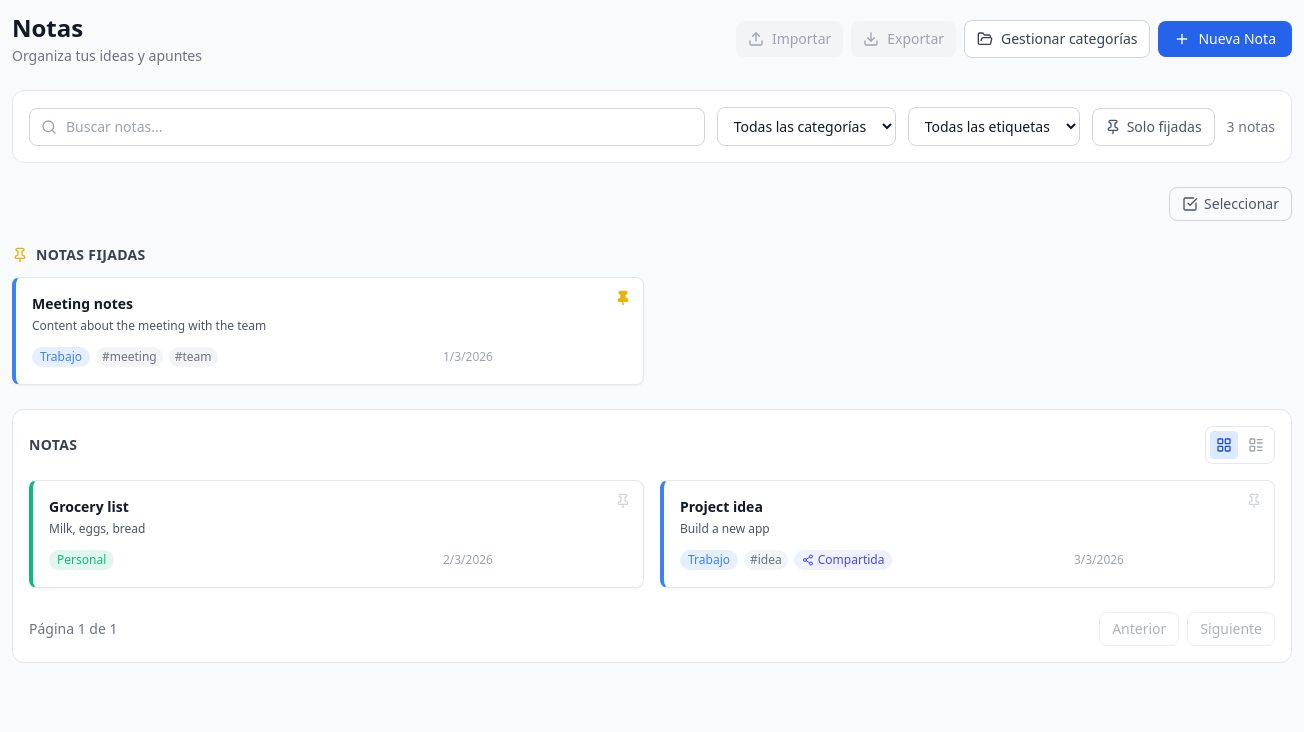
Test: NotesPage › filtra notas por categoría
Step 1. Select "Personal" in the dropdown named "Filtrar por categoría" → [806, 126], box [717, 107, 896, 146]
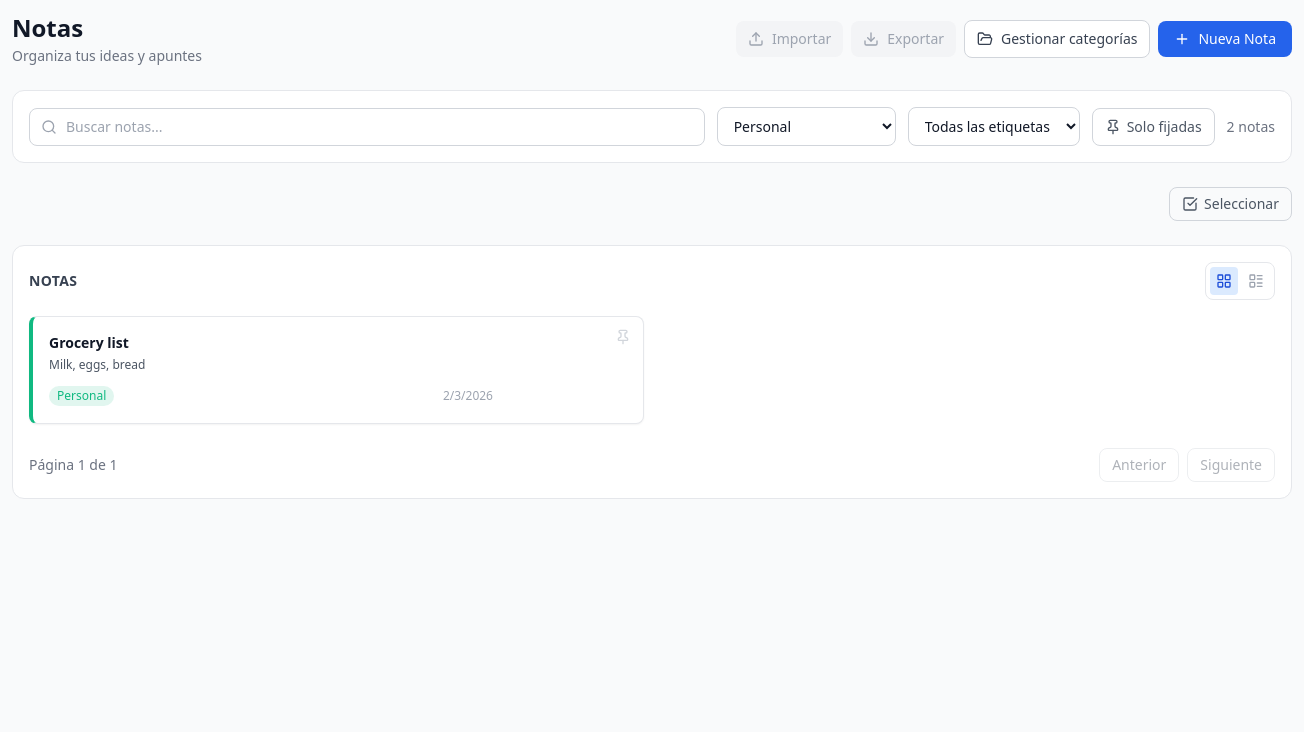
Expected: the heading "Grocery list" is shown, [49, 333, 129, 352]
Expected: the heading "Project idea" is gone
